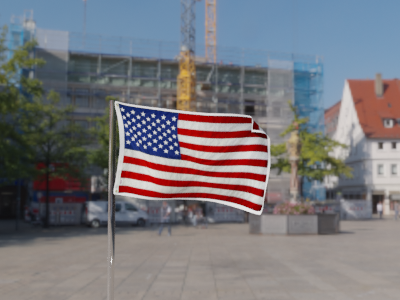America flag: (114, 99, 269, 218)
